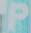Parking: (4, 0, 30, 31)
